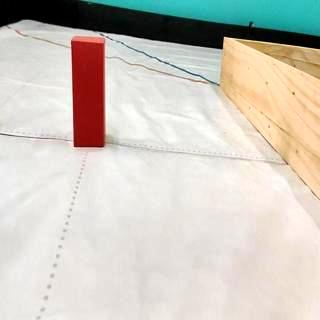redbox: (70, 34, 106, 147)
